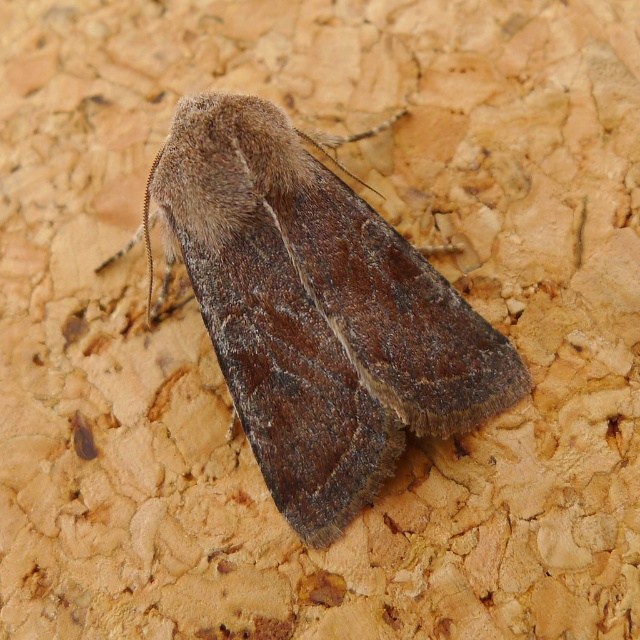Moths and butterflies: (88, 87, 539, 556)
